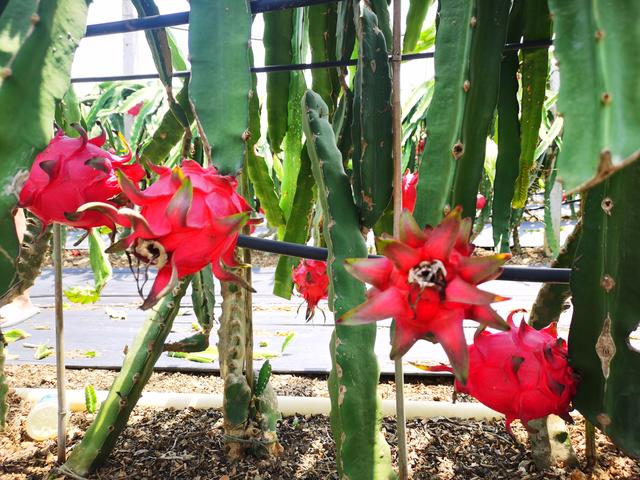pitaya: (345, 216, 504, 350), (448, 323, 575, 419), (137, 159, 244, 268), (21, 131, 146, 224), (292, 257, 330, 308), (390, 166, 429, 212)
